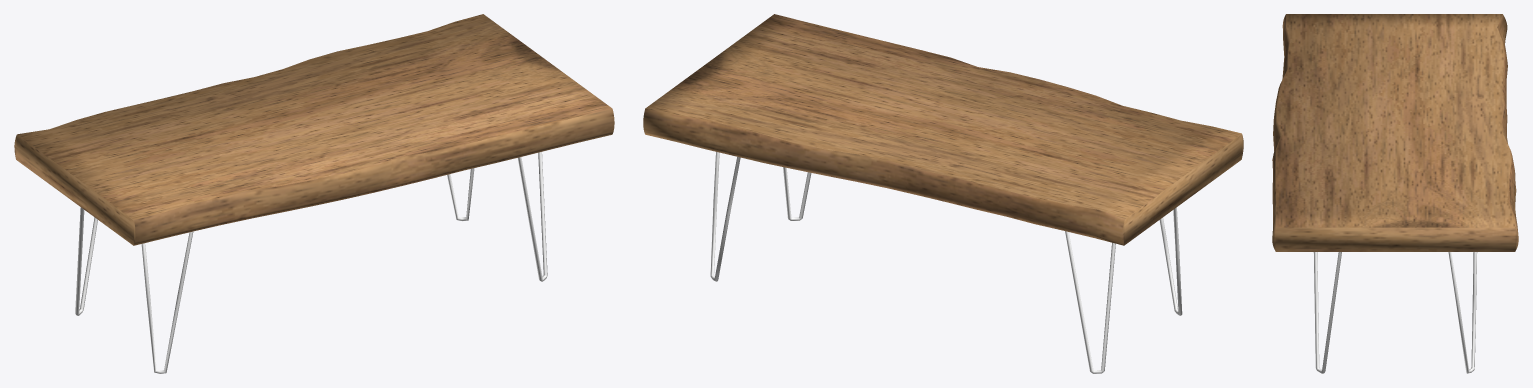
File: Table1.fbx
The picture shows the model from 3 angles, left to right: view 1: azimuth 30°, elevation 25°; view 2: azimuth 150°, elevation 25°; view 3: azimuth 270°, elevation 25°; orthographic projection. The views are drawn at different scales.
Visible parts, largest first — view 1: Table 83-05_2, Table 83-05; view 2: Table 83-05_2, Table 83-05; view 3: Table 83-05_2, Table 83-05.
Part boxes in pixels (x1,y1,x2,y2): Table 83-05_2: (14,14,614,245); Table 83-05: (75,152,547,373); Table 83-05_2: (643,14,1243,245); Table 83-05: (710,152,1182,373); Table 83-05_2: (1272,14,1518,251); Table 83-05: (1313,252,1477,373).
Size of the model in its own units: 153 by 55.21 by 74.61.
